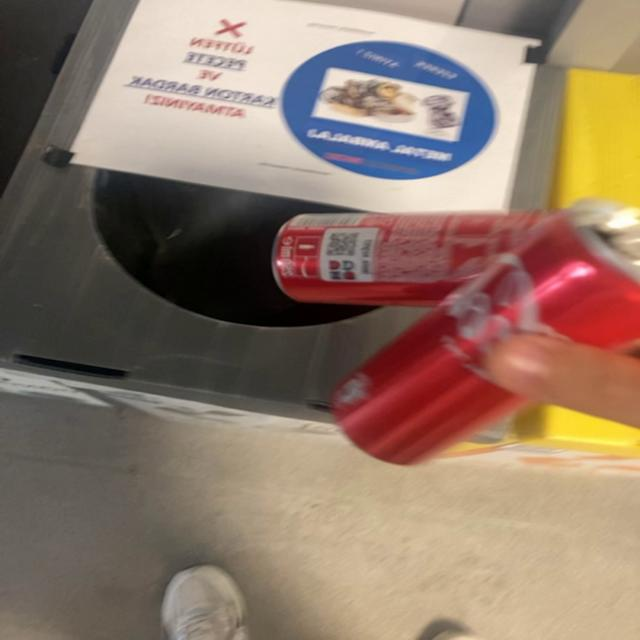bin: (1, 0, 425, 421)
metal: (274, 200, 640, 465)
